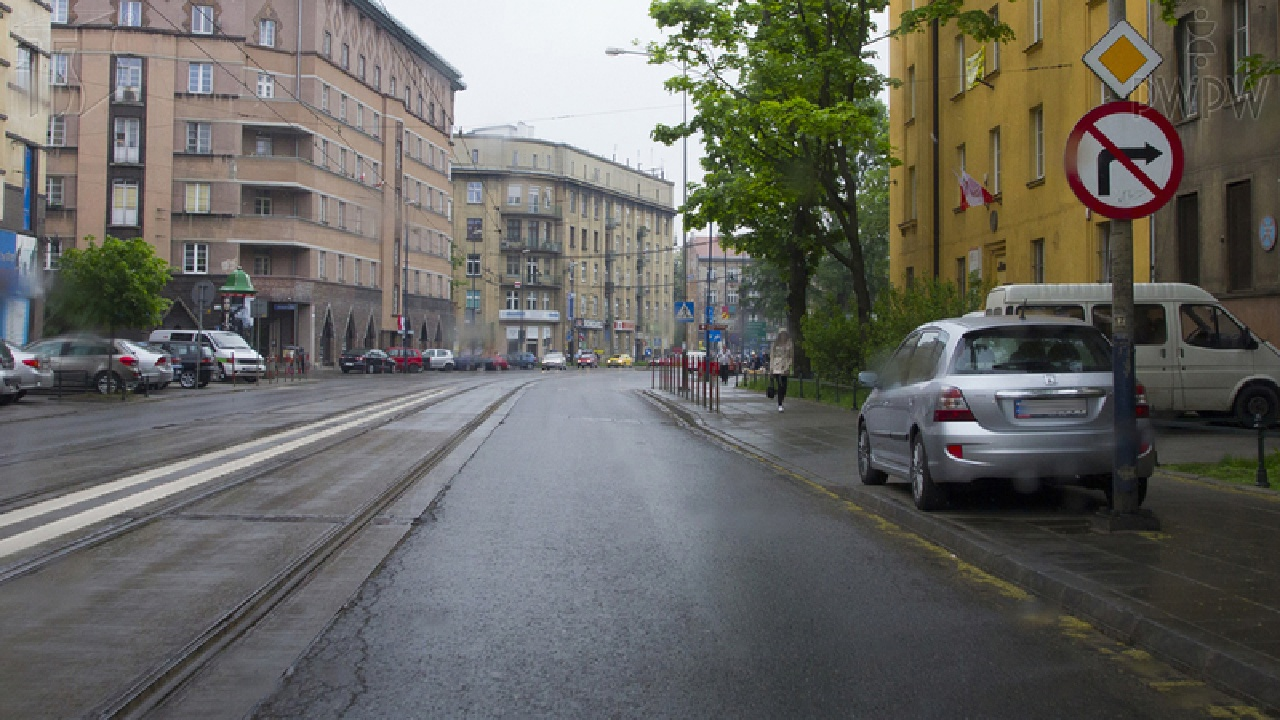B22: (1064, 101, 1184, 222)
D1: (1083, 19, 1165, 99)
